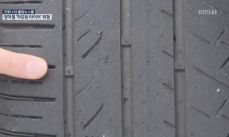bad_condition: (56, 1, 196, 133)
